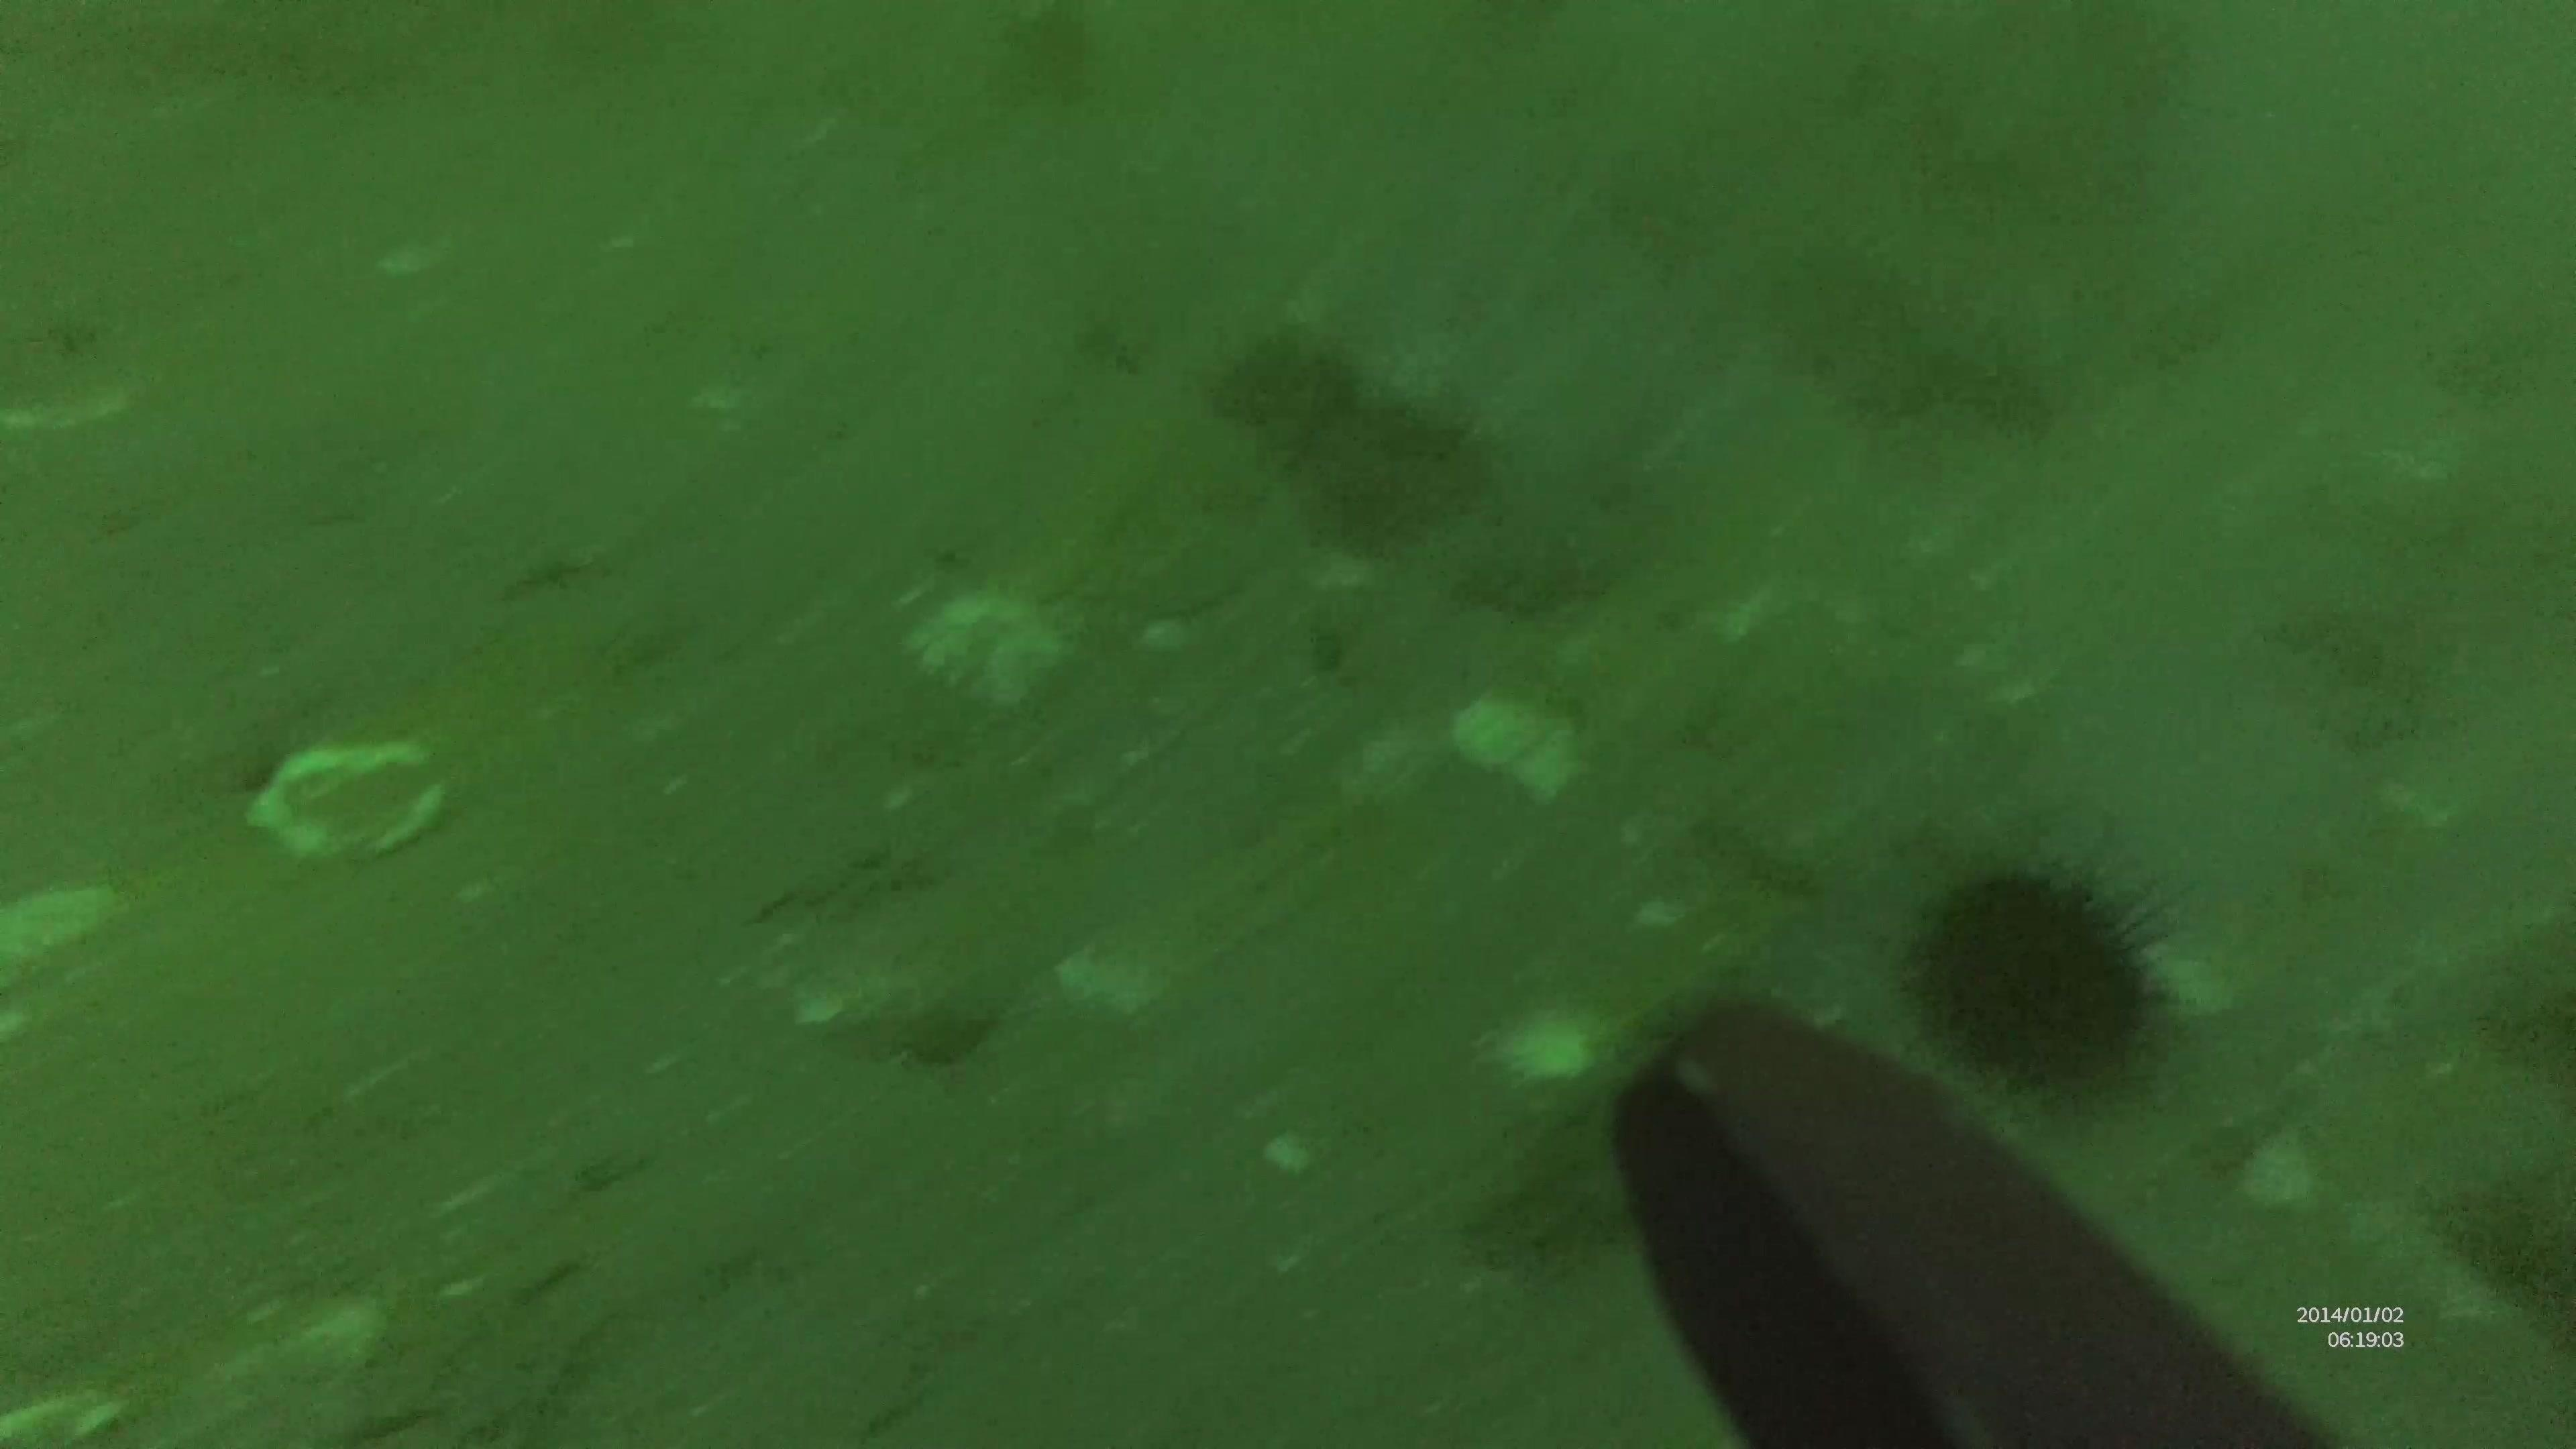echinus: (1900, 847, 2181, 1102)
